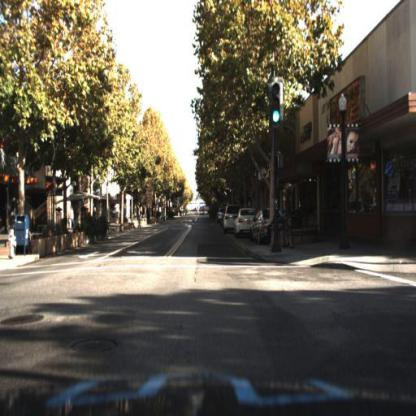car: (253, 209, 280, 240), (232, 210, 251, 242), (225, 205, 242, 238), (236, 208, 252, 239), (224, 204, 235, 235)
pedestrian: (405, 187, 416, 251), (269, 205, 280, 247), (68, 195, 77, 236)
trafficLight: (274, 85, 284, 130)
